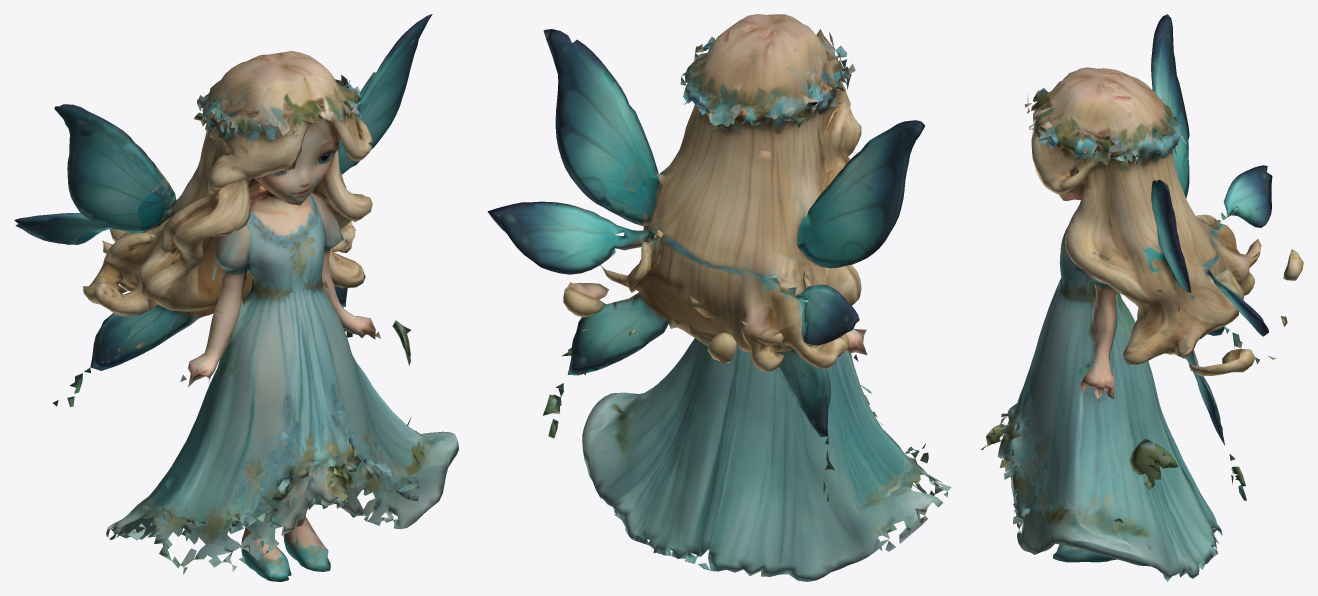
The model's file is bluefairy.glb.
3 renders of one model, left to right at view 1: azimuth 30°, elevation 25°; view 2: azimuth 150°, elevation 25°; view 3: azimuth 270°, elevation 25°, orthographic. The views are drawn at different scales.
Size of the model in its own units: 1.6 by 2 by 1.25.
Materials: 1 (1 with a texture image).
